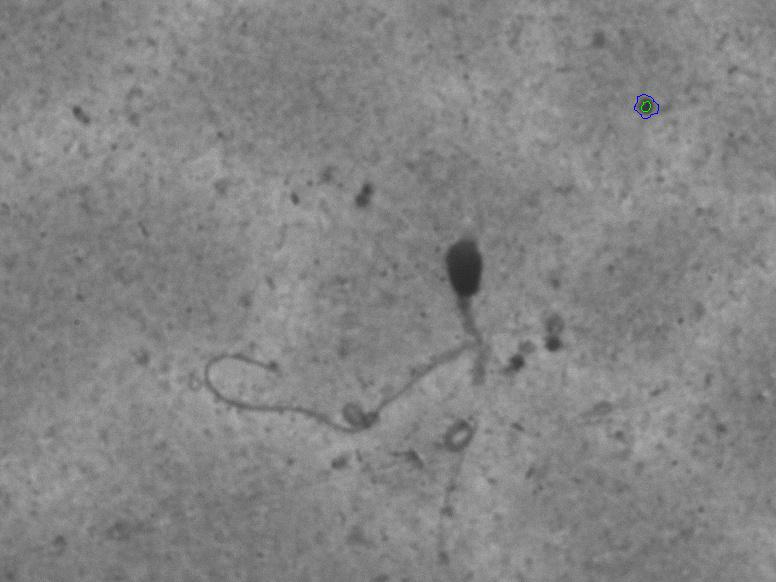Abnormal: (183, 211, 549, 458)
